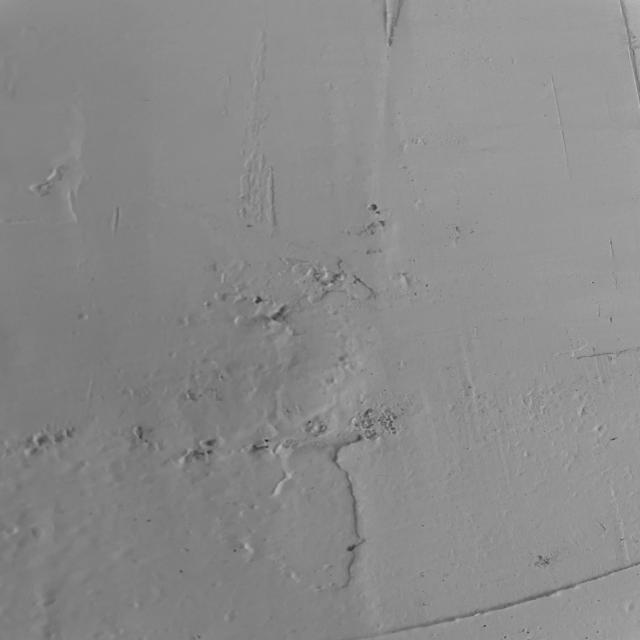rough and patchy surface: (5, 0, 615, 638)
